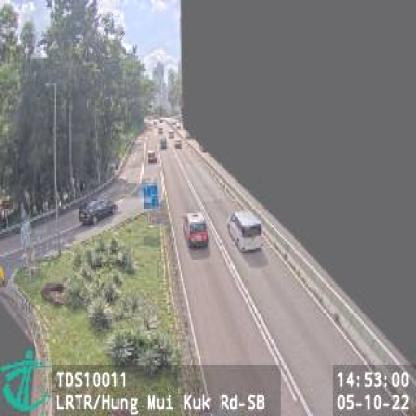Car: (226, 210, 263, 251), (78, 194, 114, 224), (182, 211, 208, 248), (147, 149, 153, 161)
